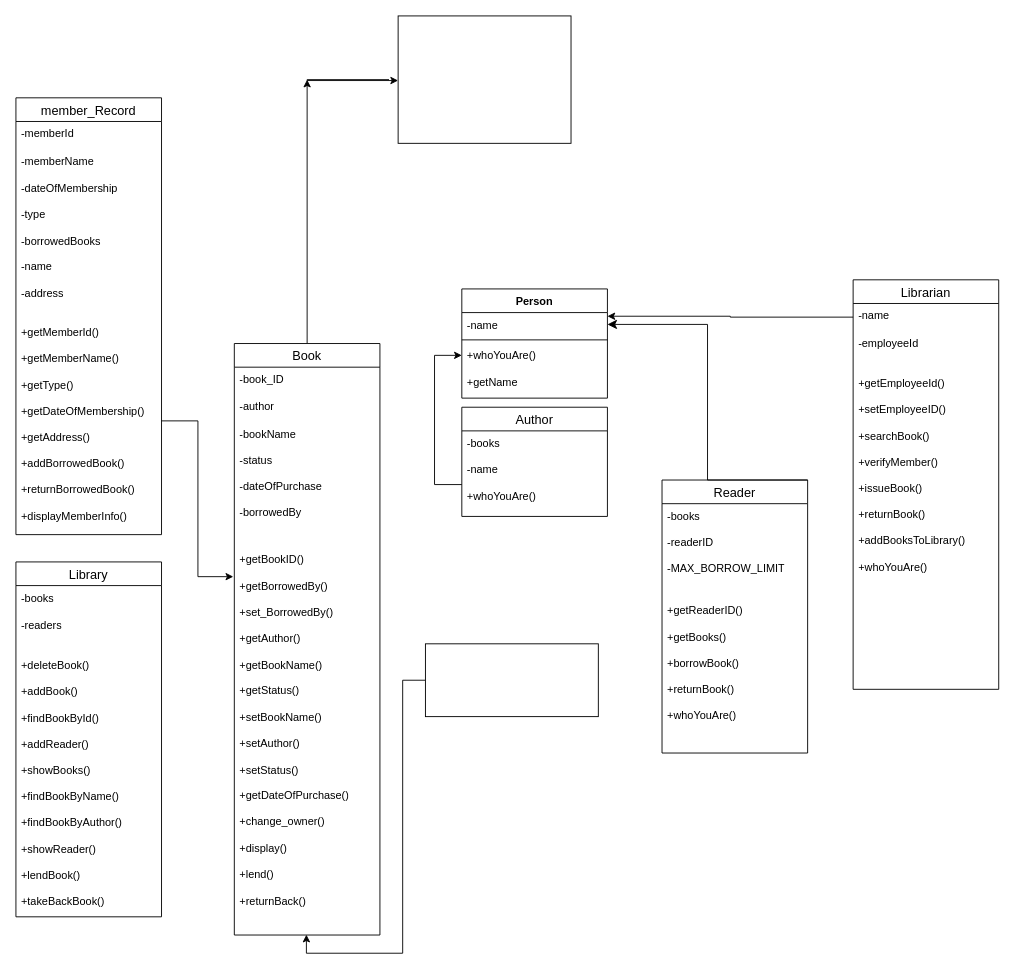
This 1015x976 diagram has some shape labels left out. Here are the shapes that lost their labels. From the top down, the centre of each, then its label:
At point (484, 79): "<<Interface>> Lendable +lend() +returnBack()".
At point (511, 680): "<<Enum>> BookStatus + AVAILABLE + BORROWED".
